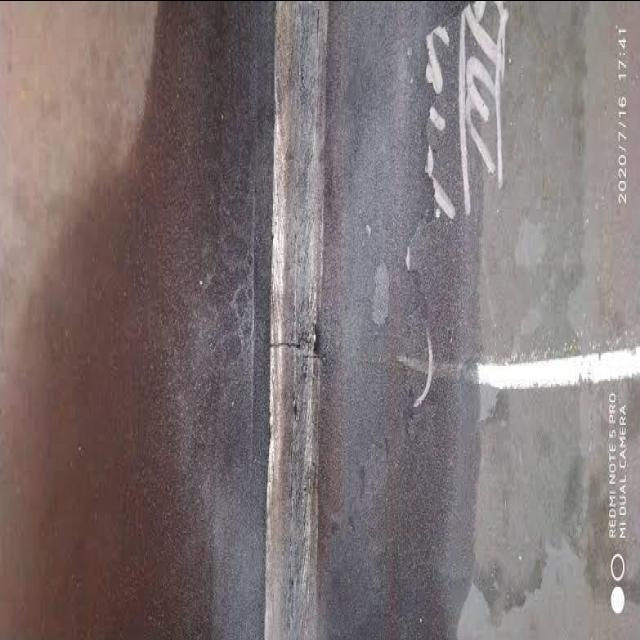Crack: (269, 328, 313, 353)
